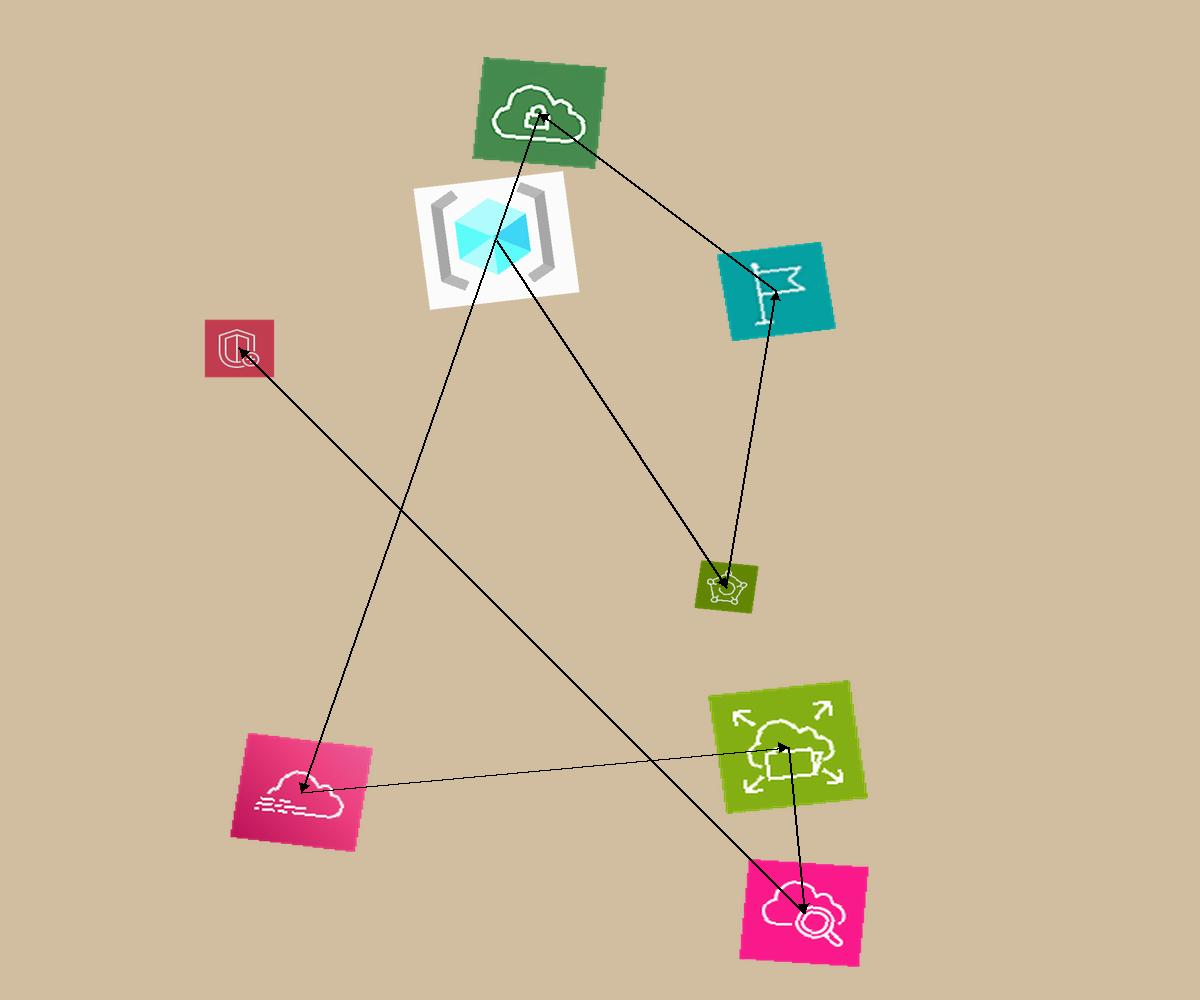AWS-Backup: (694, 560, 759, 614)
AWS-CloudTrail: (229, 732, 374, 853)
AWS-CloudWatch: (738, 858, 870, 968)
AWS-EFS: (708, 680, 868, 814)
AWS-Private_vpc: (472, 57, 607, 169)
AWS-Region: (716, 241, 837, 342)
AWS-Shield: (204, 319, 275, 378)
Azure_resource_group: (413, 171, 580, 310)
